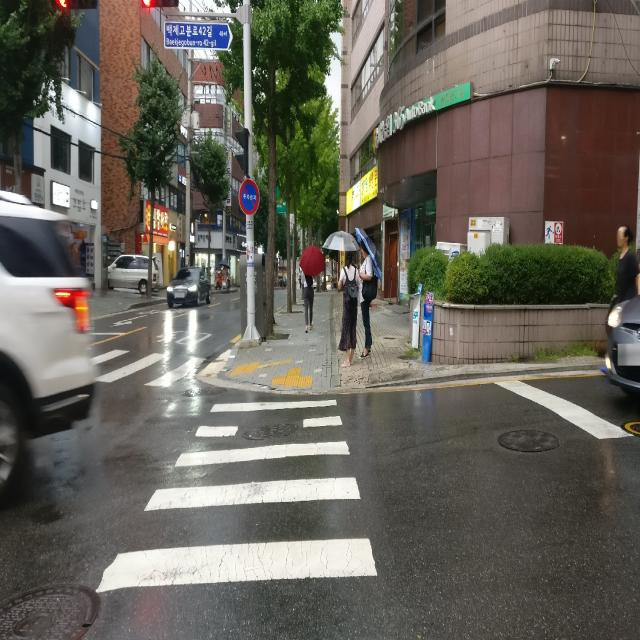횡단보도: (92, 392, 378, 594), (99, 341, 199, 387)
